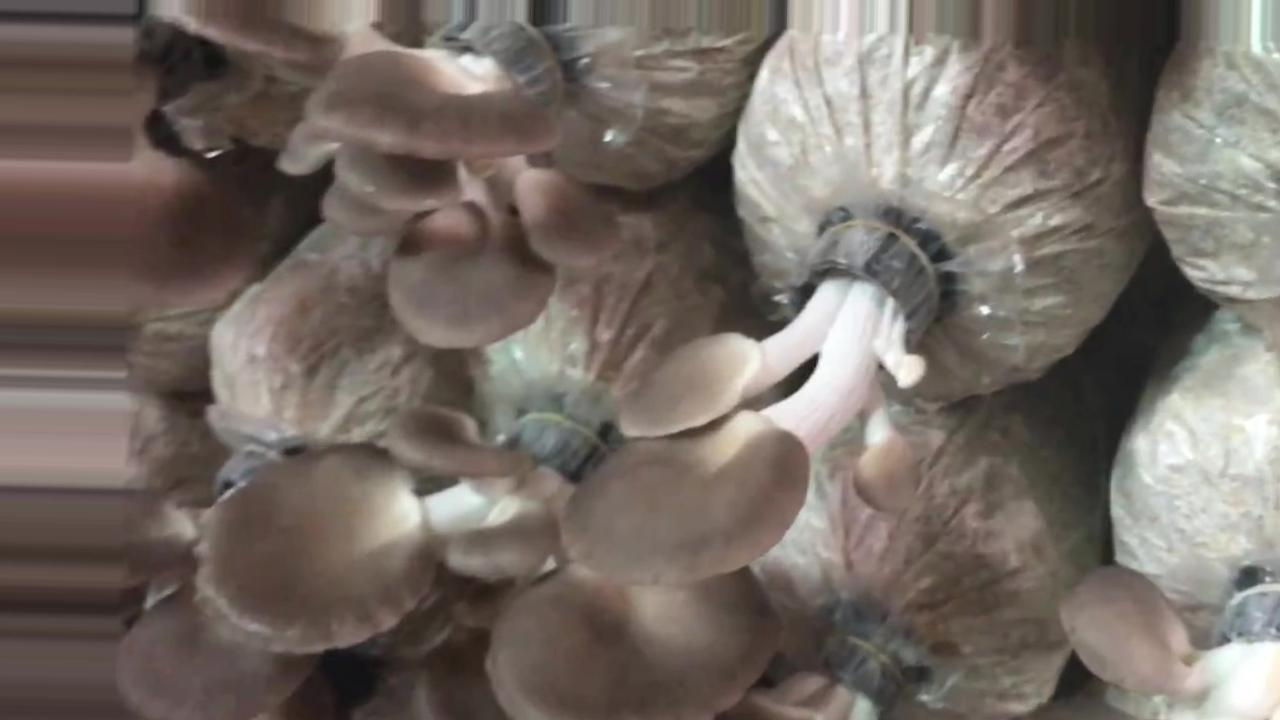nam: (200, 406, 780, 720), (175, 1, 630, 357), (571, 213, 953, 584), (1055, 559, 1280, 715)
